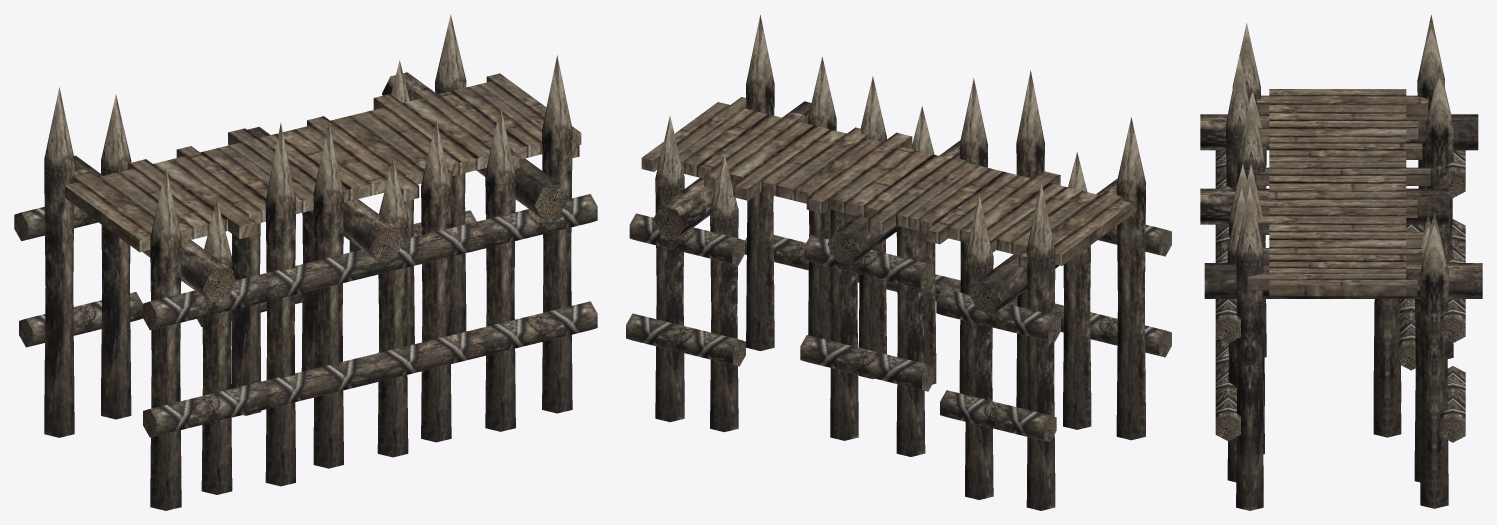
Rendered from SC_yonghengsenlin_04.FBX.
3 renders of one model, left to right at view 1: azimuth 30°, elevation 25°; view 2: azimuth 150°, elevation 25°; view 3: azimuth 270°, elevation 25°, orthographic. The views are drawn at different scales.
Parts seen in each view (by area): view 1: SC_yonghengsenlin_04; view 2: SC_yonghengsenlin_04; view 3: SC_yonghengsenlin_04.
Part boxes in pixels (x1,y1,x2,y2): SC_yonghengsenlin_04: (14, 14, 597, 510); SC_yonghengsenlin_04: (626, 15, 1171, 510); SC_yonghengsenlin_04: (1200, 15, 1482, 510).
Bounding box in the file's own units: 702 × 522 × 411.
